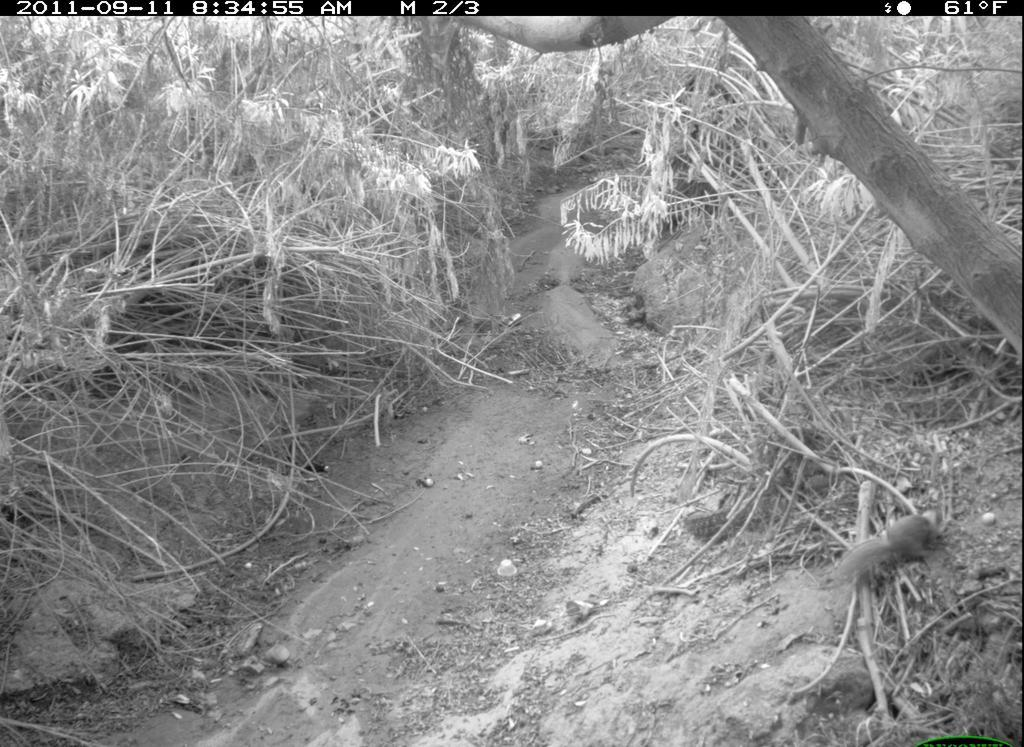squirrel: (809, 502, 948, 609)
